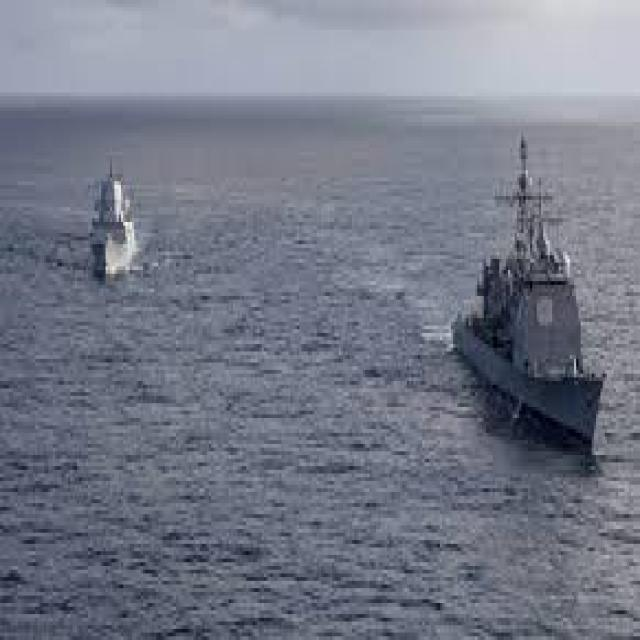navalvessels: (452, 124, 609, 451), (85, 147, 156, 281)
